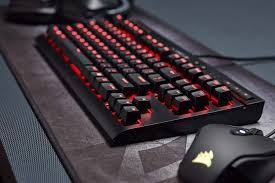keyboard: (10, 0, 263, 117)
mouse: (177, 123, 275, 183)
